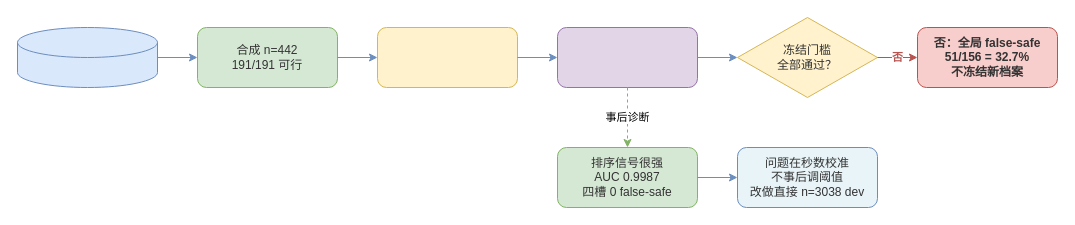
Image size: 1075x225. Some labels were removed from this diagram. Here are the shapes that lost their labels. From the top down, the centre of each, then its label:
point (87, 57): Stage AU 粗筛 191 条代码
point (447, 57): 合成 n=1002 164 可行 27 超时
point (627, 57): 三点外推 3038 预测安全 156
